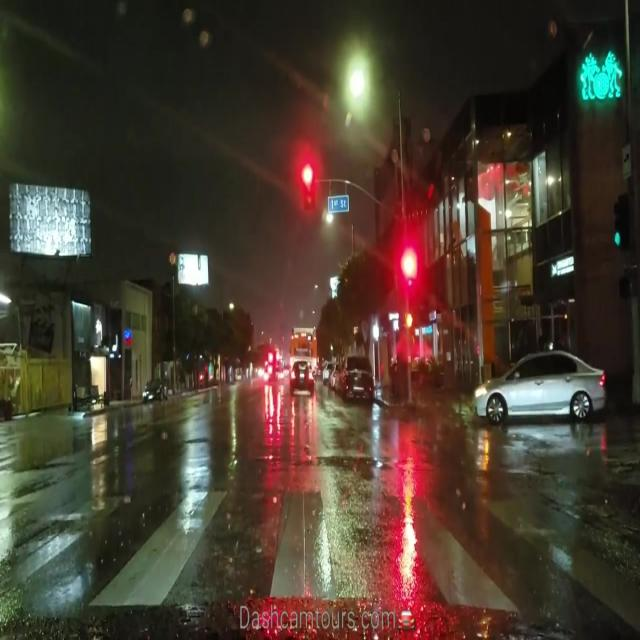Car: (472, 346, 601, 431), (288, 360, 315, 387)
